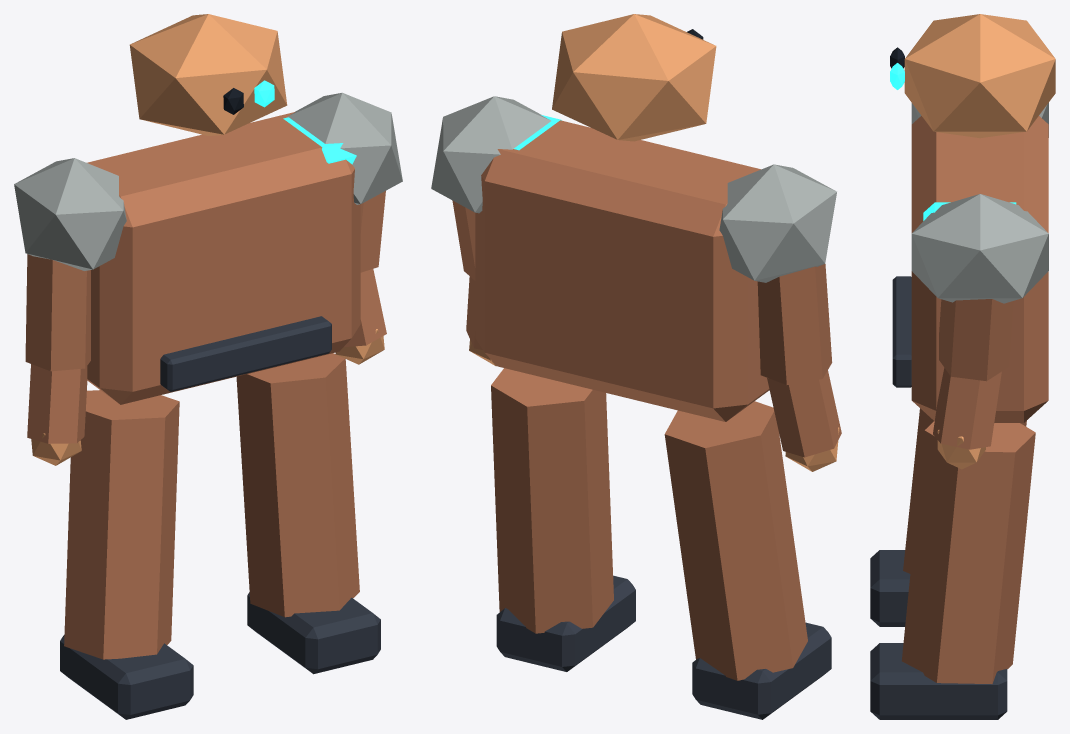
The model's file is npcs_010_seed78877.glb.
3 renders of one model, left to right at view 1: azimuth 30°, elevation 25°; view 2: azimuth 150°, elevation 25°; view 3: azimuth 270°, elevation 25°, orthographic. The views are drawn at different scales.
Parts seen in each view (by area): view 1: npcs_010_seed78877; view 2: npcs_010_seed78877; view 3: npcs_010_seed78877.
Part boxes in pixels (x1,y1,x2,y2): npcs_010_seed78877: (14,14,402,719); npcs_010_seed78877: (431,14,841,719); npcs_010_seed78877: (870,14,1055,719).
Size of the model in its own units: 0.9441 by 1.56 by 0.4033.
